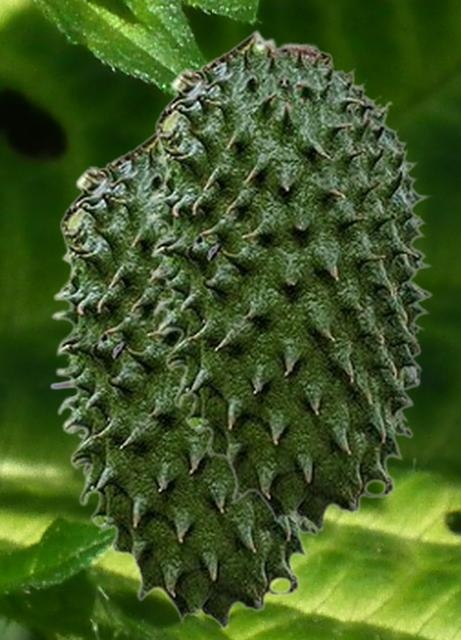guyabano: (146, 28, 433, 531), (51, 129, 325, 629)
